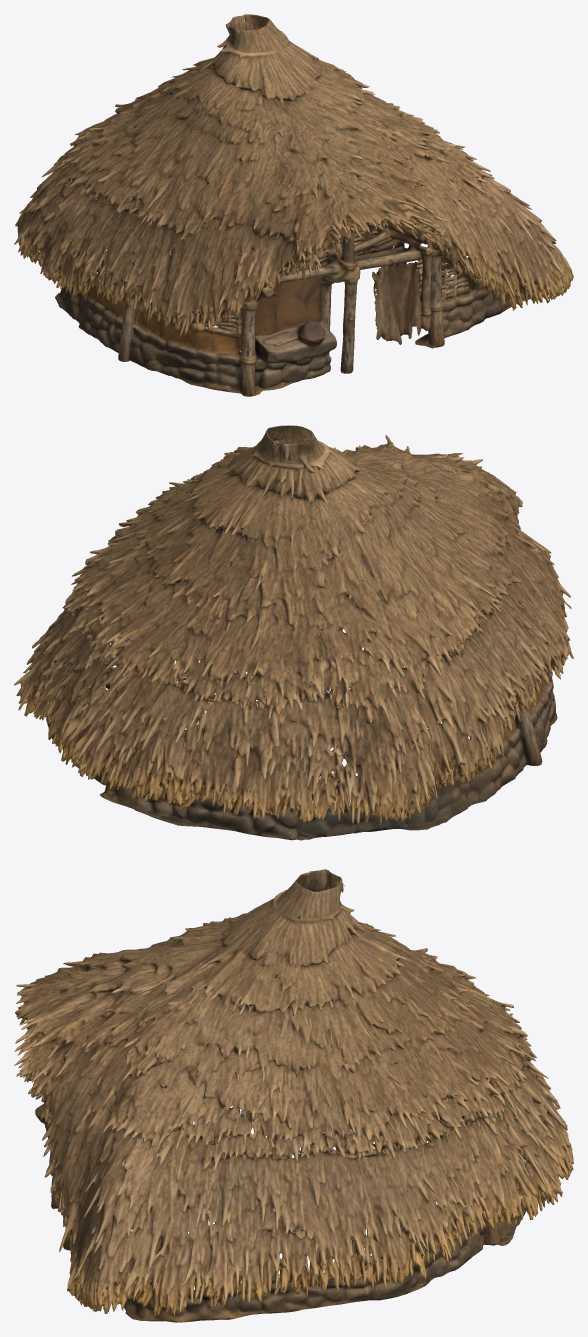
The model's file is study.glb.
The picture shows the model from 3 angles, top to bottom: view 1: azimuth 30°, elevation 25°; view 2: azimuth 150°, elevation 25°; view 3: azimuth 270°, elevation 25°; orthographic projection. The views are drawn at different scales.
Parts seen in each view (by area): view 1: world; view 2: world; view 3: world.
Boxes of the visible parts, <box> form: world: <box>14,14,573,396</box>; world: <box>14,425,573,840</box>; world: <box>14,869,573,1322</box>.
Bounding box in the file's own units: 0.9983 × 0.6105 × 0.9753.
Materials: 1 (1 with a texture image).
